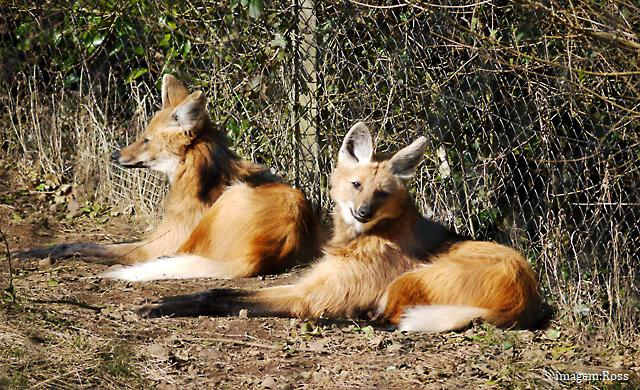LoboGuara: (67, 72, 316, 282), (310, 117, 544, 336)
